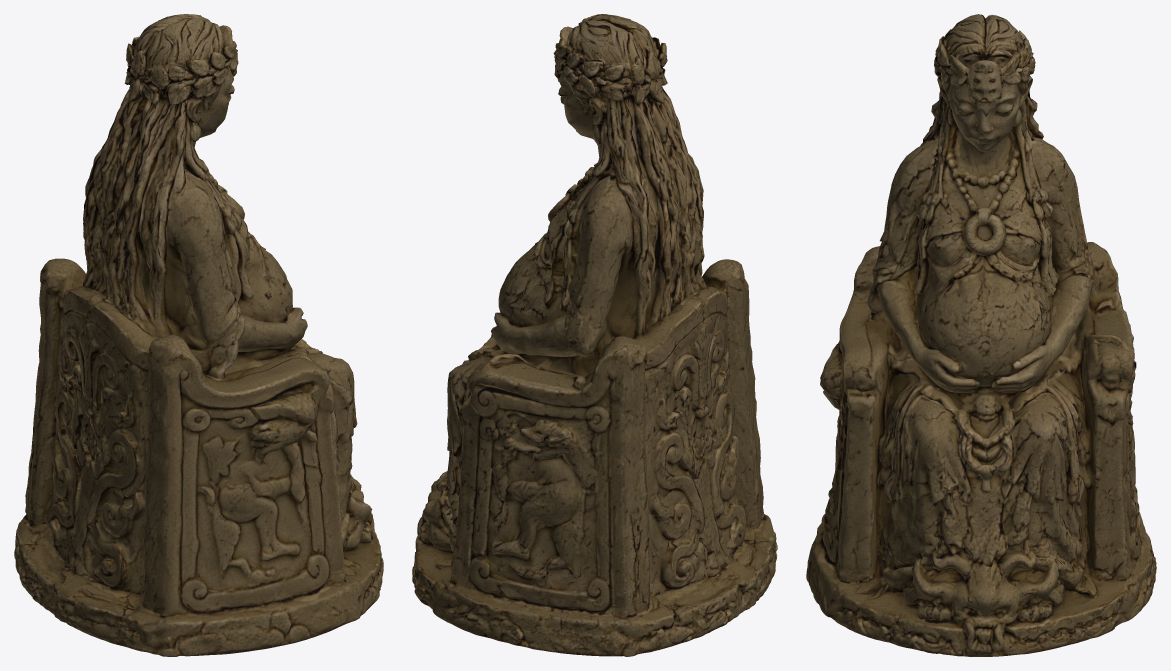
Rendered from pregnant_goddess_statue_3d_model.fbx.
3 views of the same model, side by side, from view 1: azimuth 30°, elevation 25°; view 2: azimuth 150°, elevation 25°; view 3: azimuth 270°, elevation 25° (orthographic). The views are drawn at different scales.
Visible parts, largest first — view 1: tripo_node_6f54a7d7; view 2: tripo_node_6f54a7d7; view 3: tripo_node_6f54a7d7.
Part boxes in pixels (box(x1,y1,x2,y2)): tripo_node_6f54a7d7: box(14, 14, 383, 656); tripo_node_6f54a7d7: box(412, 14, 777, 656); tripo_node_6f54a7d7: box(806, 14, 1156, 656).
Bounding box in the file's own units: 0.5759 × 0.9796 × 0.5614.
